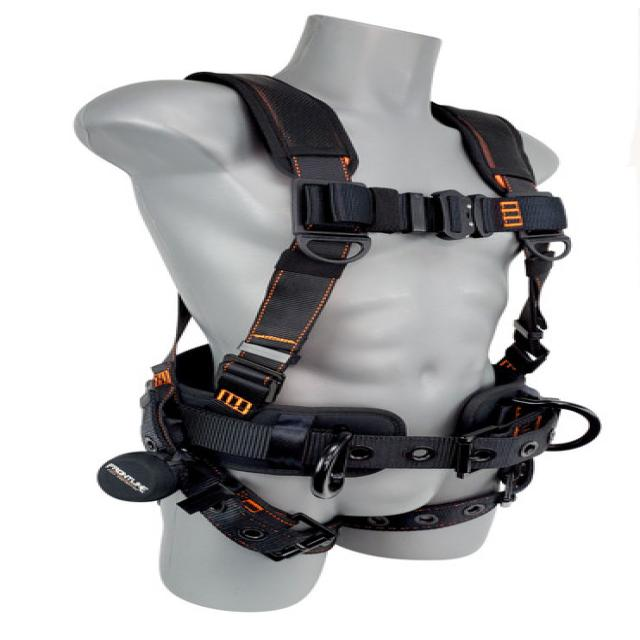Harness: (94, 70, 608, 564)
